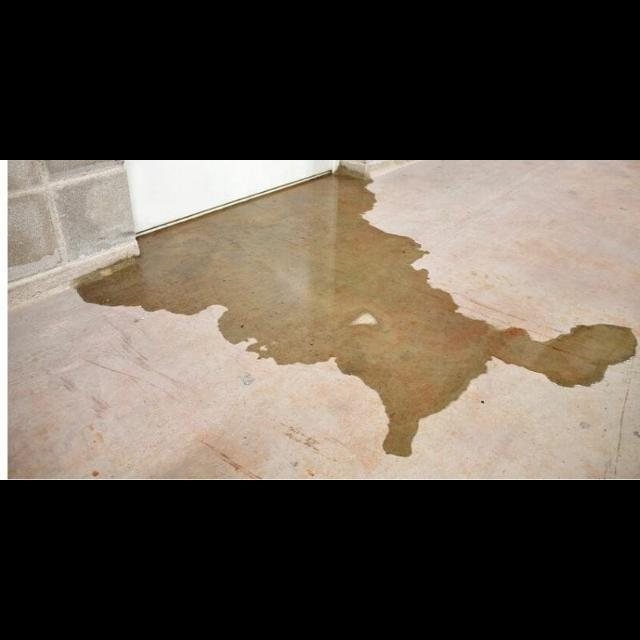water accumulation: (69, 172, 632, 456)
